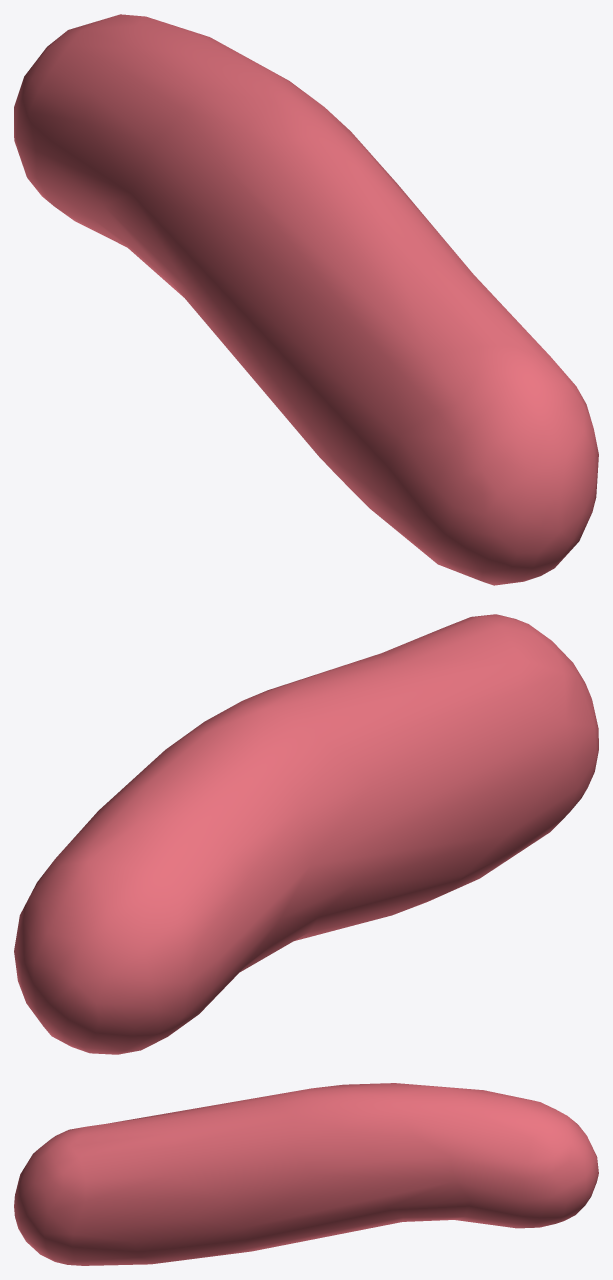
The model's file is fma50994_fj4654.glb.
3 views of the same model, one above another, from view 1: azimuth 30°, elevation 25°; view 2: azimuth 150°, elevation 25°; view 3: azimuth 270°, elevation 25° (orthographic). The views are drawn at different scales.
Parts seen in each view (by area): view 1: FMA50994_FJ4654; view 2: FMA50994_FJ4654; view 3: FMA50994_FJ4654.
Boxes of the visible parts, x1,y1,x2,y2 form: FMA50994_FJ4654: [14, 14, 598, 585]; FMA50994_FJ4654: [14, 614, 598, 1054]; FMA50994_FJ4654: [14, 1083, 598, 1265].
Size of the model in its own units: 0.00411 by 0.00615 by 0.0185.
